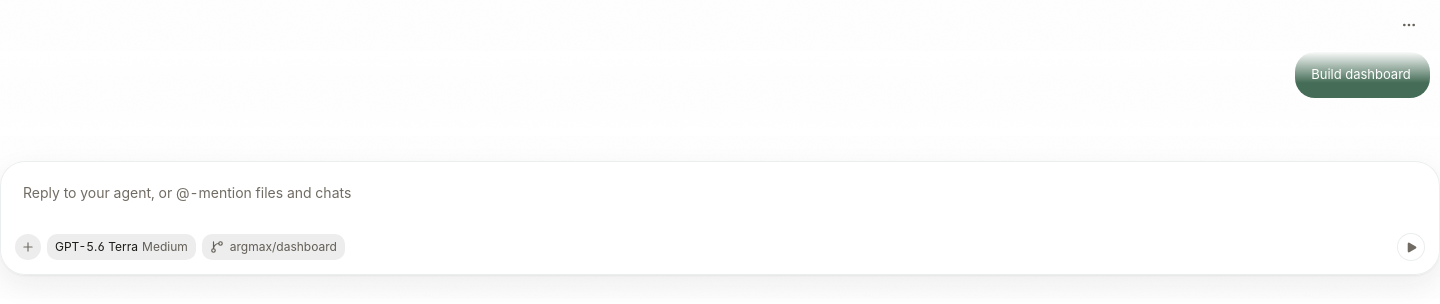
SessionConversation — tools & chrome › dismisses the session actions popover after toggling the debug log
Click the button named "Chat actions".
click(1409, 25)  # box [1398, 14, 1420, 36]
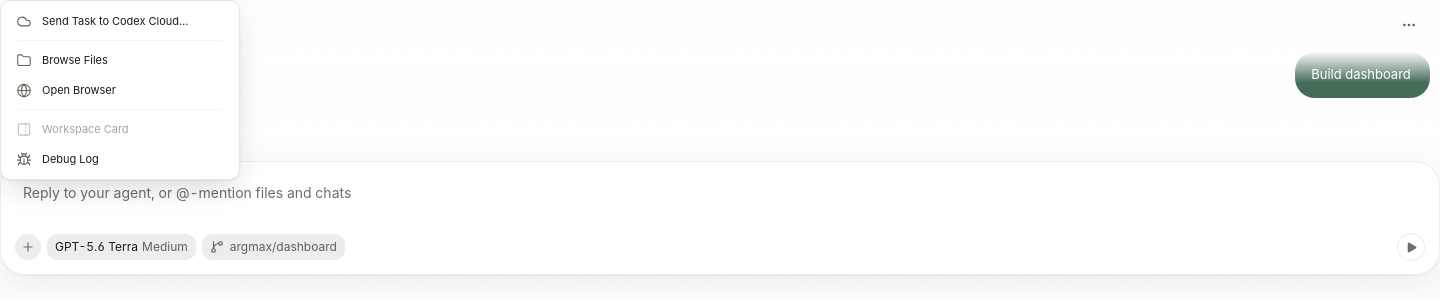
Click the menu item "Debug Log".
click(120, 159)  # box [7, 145, 233, 173]
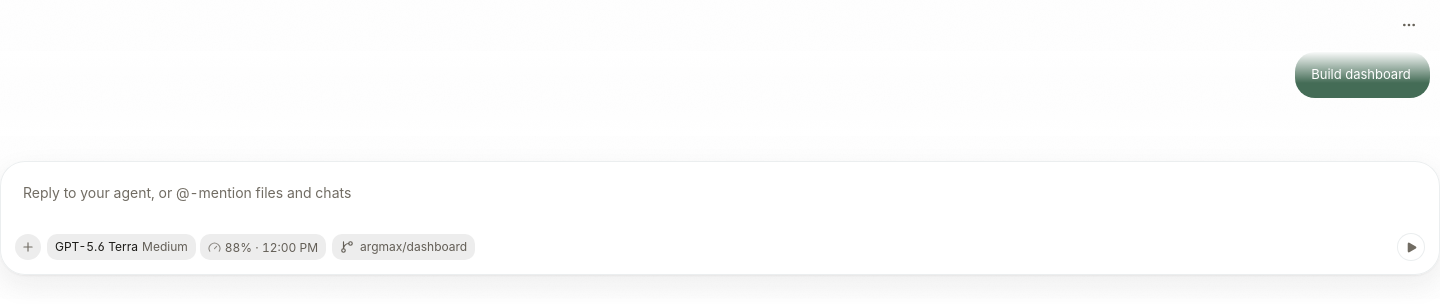
Now the menu item "Browse Files" is gone
